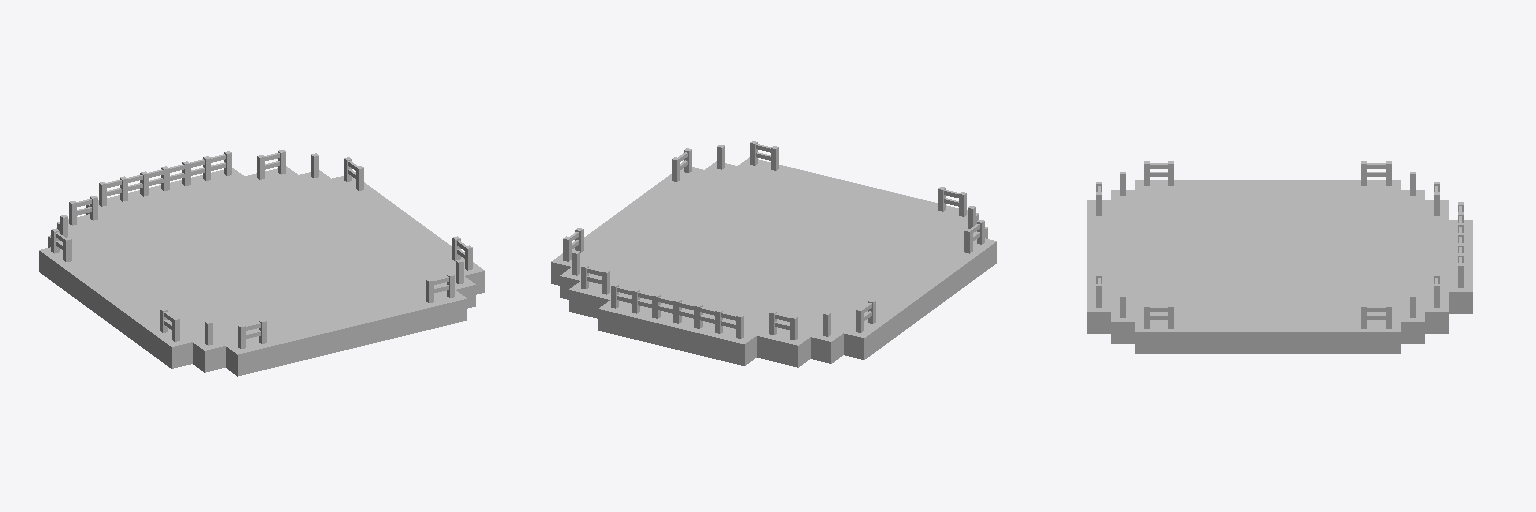
The model's file is SidePath.obj.
3 renders of one model, left to right at view 1: azimuth 30°, elevation 25°; view 2: azimuth 150°, elevation 25°; view 3: azimuth 270°, elevation 25°, orthographic.
Parts seen in each view (by area): view 1: Unity__-49_-60_-40_to_-35_319_-25; view 2: Unity__-49_-60_-40_to_-35_319_-25; view 3: Unity__-49_-60_-40_to_-35_319_-25.
Boxes of the visible parts, x1=… form: Unity__-49_-60_-40_to_-35_319_-25: x1=39, y1=150, x2=484, y2=376; Unity__-49_-60_-40_to_-35_319_-25: x1=551, y1=141, x2=996, y2=367; Unity__-49_-60_-40_to_-35_319_-25: x1=1087, y1=161, x2=1472, y2=353.
Bounding box in the file's own units: 52.5 × 7 × 56.